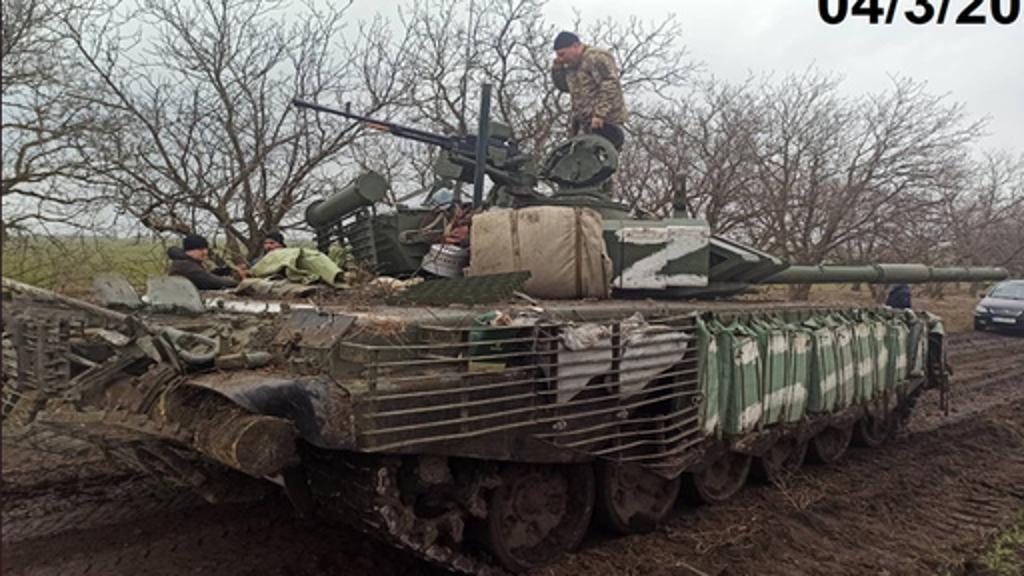CAR: (974, 270, 1022, 334)
TANK: (58, 168, 1004, 570)
